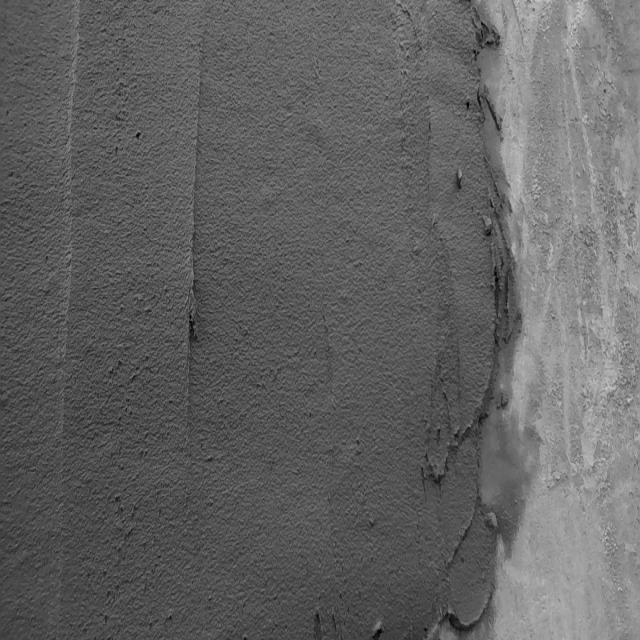trowels marks: (185, 29, 203, 454)
